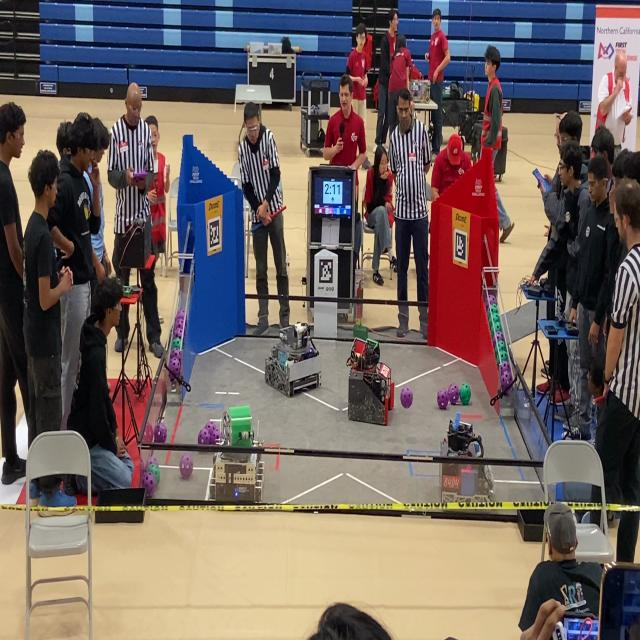artifact_green: (147, 464, 160, 486), (488, 317, 499, 339), (495, 341, 507, 361), (460, 384, 471, 405), (495, 350, 508, 366), (492, 323, 501, 339), (497, 353, 507, 367), (490, 315, 501, 326), (171, 338, 182, 349), (488, 313, 501, 322), (489, 322, 496, 338), (490, 314, 501, 324), (497, 341, 507, 352), (489, 304, 499, 314), (494, 319, 502, 331), (496, 352, 502, 367), (490, 304, 499, 314), (501, 350, 509, 361), (495, 345, 500, 361), (496, 356, 501, 371), (487, 311, 493, 322), (492, 313, 501, 320)
artifact_purple: (140, 471, 156, 498), (206, 420, 221, 443), (180, 453, 193, 479), (501, 368, 513, 390), (168, 358, 181, 378), (401, 387, 413, 408), (154, 422, 166, 443), (210, 425, 223, 443), (437, 388, 448, 409), (448, 384, 459, 405), (198, 427, 210, 445), (143, 423, 153, 443), (170, 356, 181, 374), (146, 454, 157, 469), (173, 322, 183, 338), (140, 458, 147, 478), (500, 362, 510, 376), (494, 331, 504, 345), (174, 326, 184, 338), (488, 294, 497, 307), (170, 348, 180, 359), (174, 319, 183, 330), (176, 309, 185, 319), (175, 318, 184, 326), (180, 317, 187, 327), (181, 310, 186, 322), (484, 298, 489, 309)
